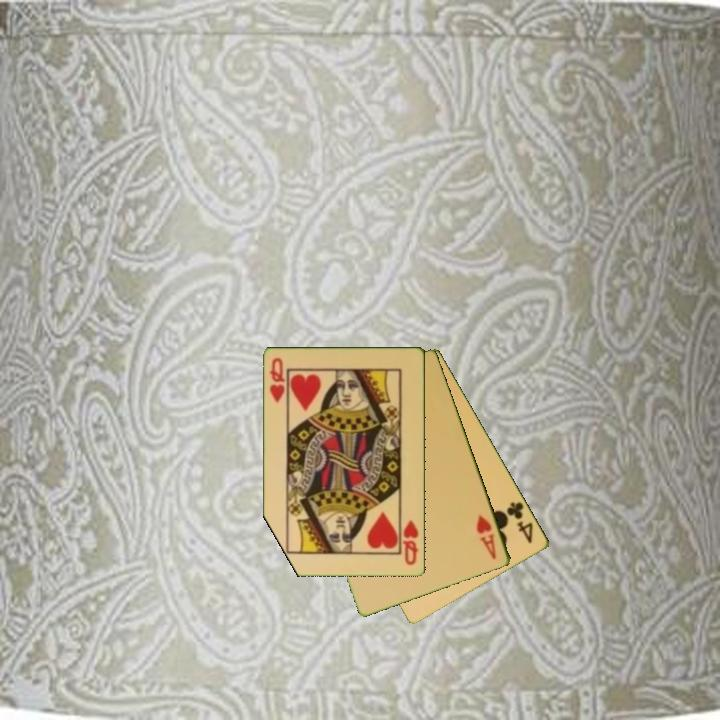4c: (503, 498, 536, 546)
Ah: (473, 511, 499, 562)
Qh: (266, 355, 288, 406), (400, 517, 421, 568)
